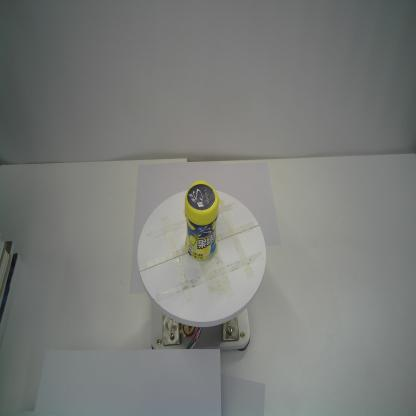Gum: (184, 180, 222, 261)
